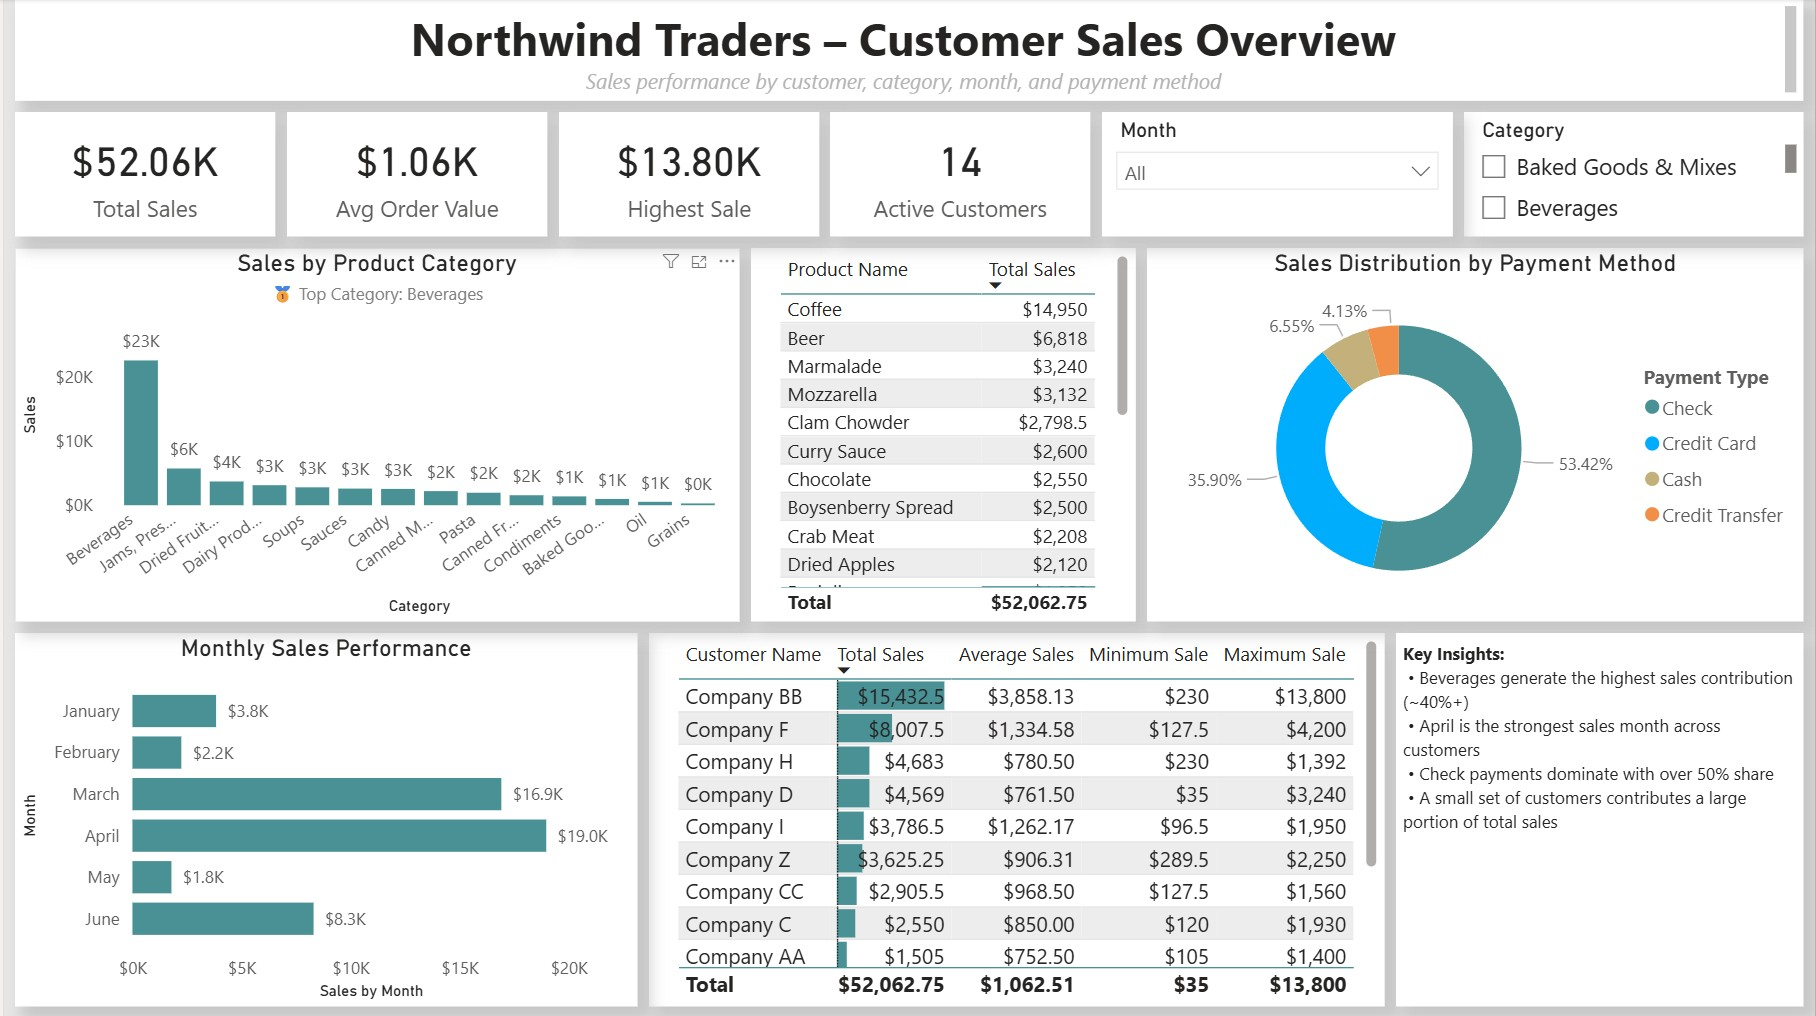

The dashboard page shown, as its layout file describes it:
{"tool":"powerbi","page":{"name":"Customer Sales Dashboard","canvas":[1280,720],"ordinal":0},"visuals":[{"type":"tableEx","fields":{"Values":["tbl_Sales.Customer Name","Sum(tbl_Sales.Sales)","Avg(tbl_Sales.Sales)","Min(tbl_Sales.Sales)","Max(tbl_Sales.Sales)"]},"box":[456,448,520,264],"z":0},{"type":"clusteredBarChart","title":"Monthly Sales Performance","fields":{"Category":["tbl_Sales.Order Date.Variation.Date Hierarchy.Month"],"Y":["Sum(tbl_Sales.Sales)"]},"box":[8,448,440,264],"z":1000},{"type":"columnChart","title":"Sales by Product Category","fields":{"Category":["tbl_Sales.Category"],"Y":["Sum(tbl_Sales.Sales)"]},"box":[8,176,512,264],"z":2000},{"type":"tableEx","fields":{"Values":["tbl_Sales.Product Name","Sum(tbl_Sales.Sales)"]},"box":[528,176,272,264],"z":3000},{"type":"donutChart","title":"Sales Distribution by Payment Method","fields":{"Category":["tbl_Sales.Payment Type"],"Y":["Sum(tbl_Sales.Sales)"]},"box":[808,176,464,264],"z":4000},{"type":"textbox","box":[8,0,1264,72],"z":5000},{"type":"card","fields":{"Values":["Sum(tbl_Sales.Sales)"]},"box":[8,80,184,88],"z":6000},{"type":"card","fields":{"Values":["Avg(tbl_Sales.Sales)"]},"box":[200,80,184,88],"z":7000},{"type":"card","fields":{"Values":["Max(tbl_Sales.Sales)"]},"box":[392,80,184,88],"z":8000},{"type":"card","fields":{"Values":["Count(tbl_Sales.Customer Name)"]},"box":[584,80,184,88],"z":9000},{"type":"slicer","title":"Category Filter","fields":{"Values":["tbl_Sales.Category"]},"box":[1032,80,240,88],"z":11000},{"type":"textbox","box":[984,448,288,264],"z":12000},{"type":"slicer","fields":{"Values":["tbl_Sales.Order Date.Variation.Date Hierarchy.Month"]},"box":[776,80,248,88],"z":12001}]}

Visuals, with their boxes in screenshot pixels (x1, y1, x2, y2), scaled from the page's 1280x720 canvas onto the 1816x1016 screenshot:
tableEx - tbl_Sales.Customer Name x Sum(tbl_Sales.Sales): {"x1": 647, "y1": 632, "x2": 1385, "y2": 1005}
"Monthly Sales Performance" clusteredBarChart: {"x1": 11, "y1": 632, "x2": 636, "y2": 1005}
"Sales by Product Category" columnChart: {"x1": 11, "y1": 248, "x2": 738, "y2": 621}
tableEx - tbl_Sales.Product Name x Sum(tbl_Sales.Sales): {"x1": 749, "y1": 248, "x2": 1135, "y2": 621}
"Sales Distribution by Payment Method" donutChart: {"x1": 1146, "y1": 248, "x2": 1805, "y2": 621}
textbox: {"x1": 11, "y1": 0, "x2": 1805, "y2": 102}
card - Sum(tbl_Sales.Sales): {"x1": 11, "y1": 113, "x2": 272, "y2": 237}
card - Avg(tbl_Sales.Sales): {"x1": 284, "y1": 113, "x2": 545, "y2": 237}
card - Max(tbl_Sales.Sales): {"x1": 556, "y1": 113, "x2": 817, "y2": 237}
card - Count(tbl_Sales.Customer Name): {"x1": 829, "y1": 113, "x2": 1090, "y2": 237}
"Category Filter" slicer: {"x1": 1464, "y1": 113, "x2": 1805, "y2": 237}
textbox: {"x1": 1396, "y1": 632, "x2": 1805, "y2": 1005}
slicer - tbl_Sales.Order Date.Variation.Date Hierarchy.Month: {"x1": 1101, "y1": 113, "x2": 1453, "y2": 237}
